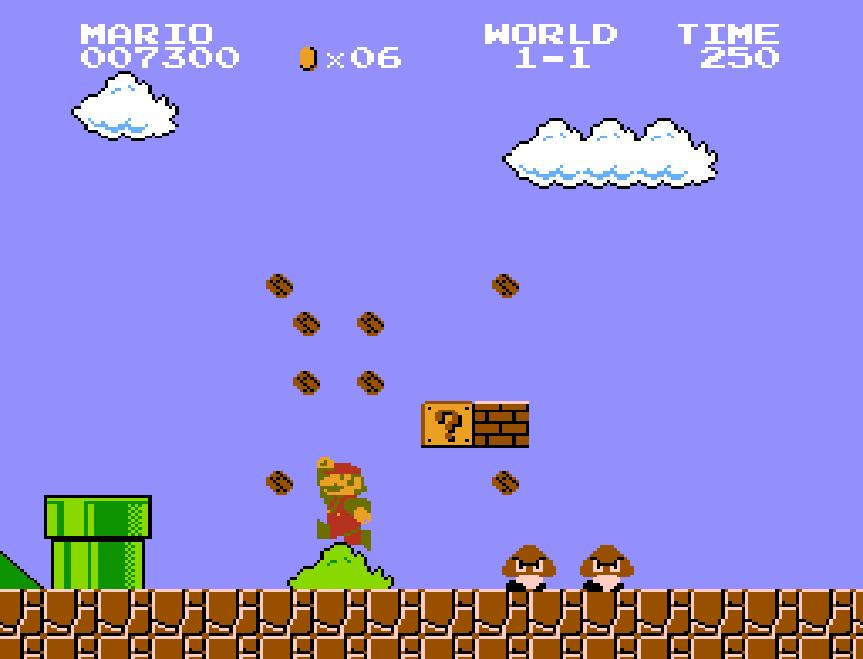big_mario: (314, 455, 372, 553)
